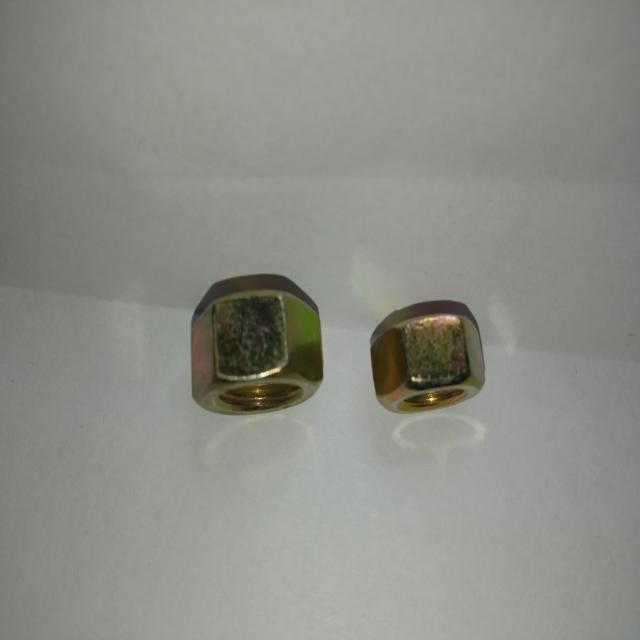m10: (189, 291, 323, 416)
m8: (373, 314, 489, 412)
